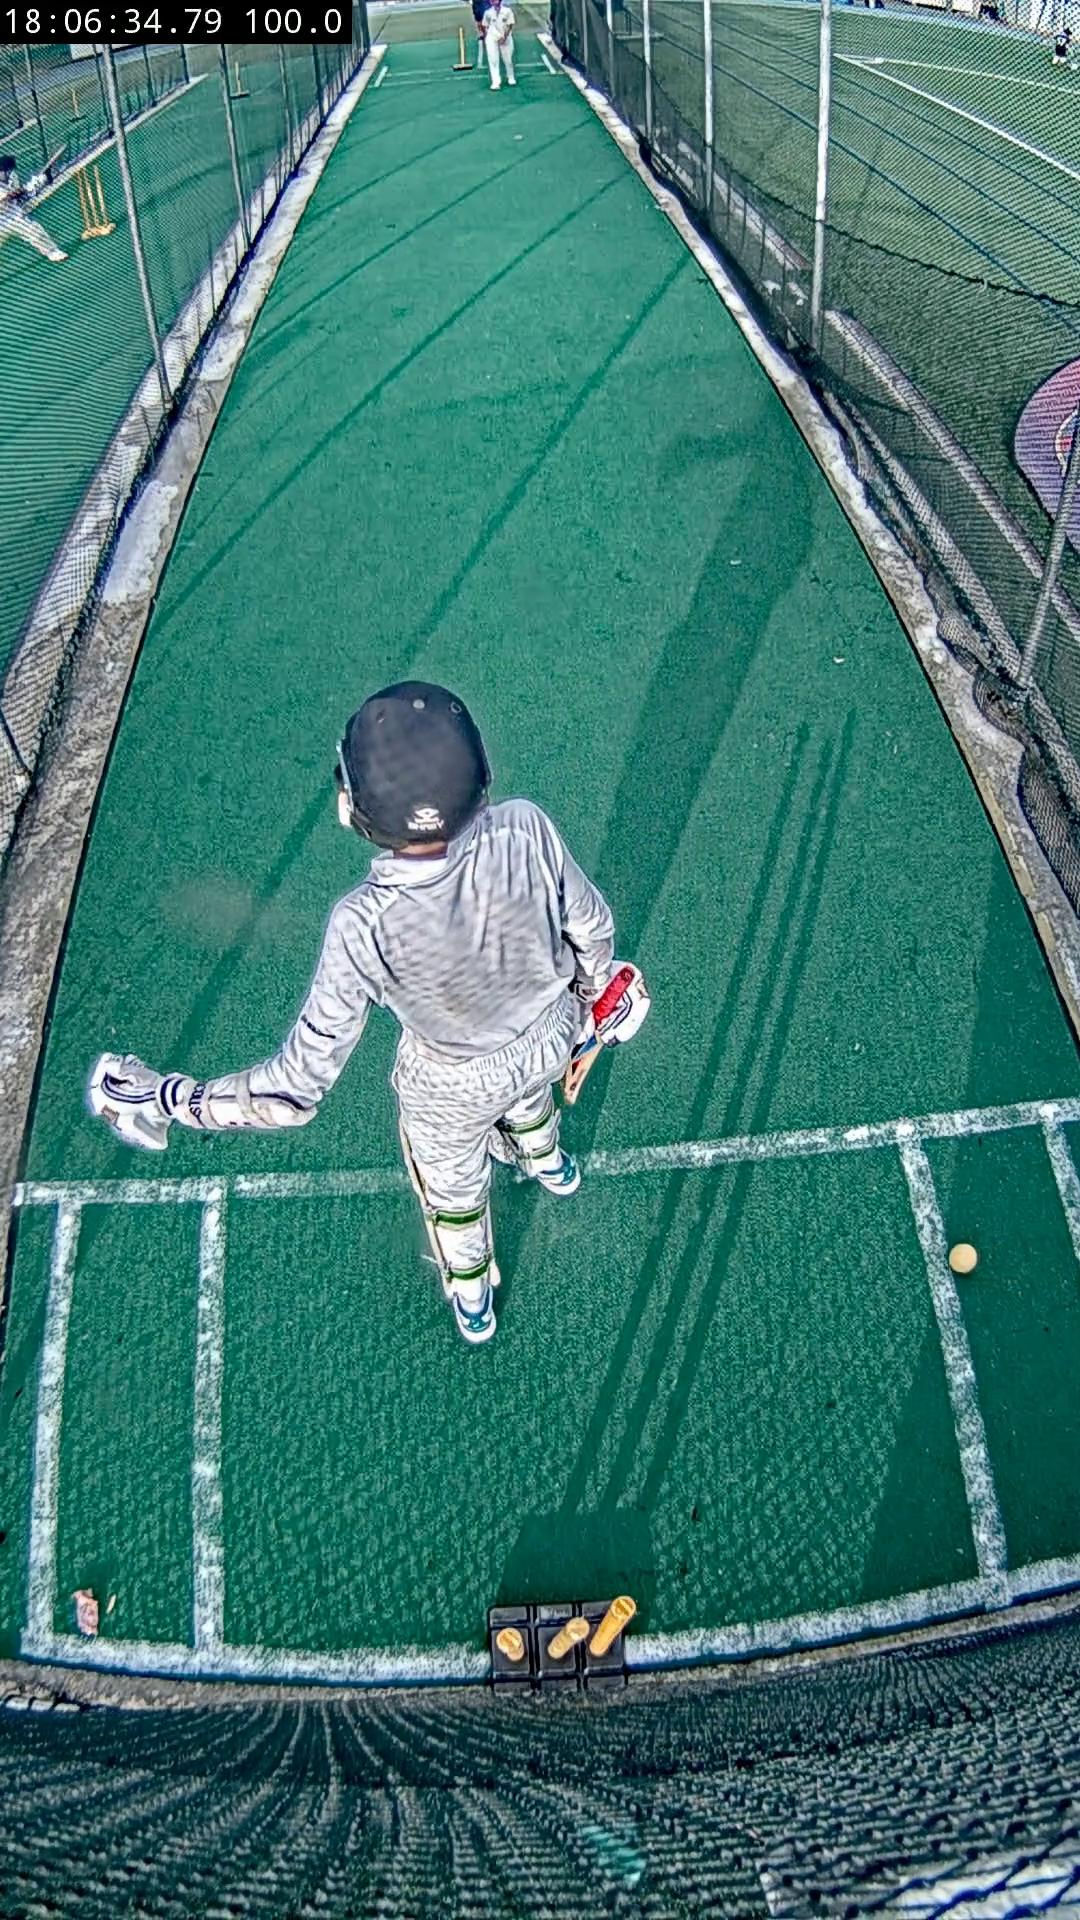ball: (948, 1241, 978, 1275)
bat: (563, 964, 634, 1104)
gloves: (86, 1054, 199, 1151), (596, 964, 649, 1046)
helmet: (338, 683, 492, 848)
stumps: (488, 1594, 637, 1692)
